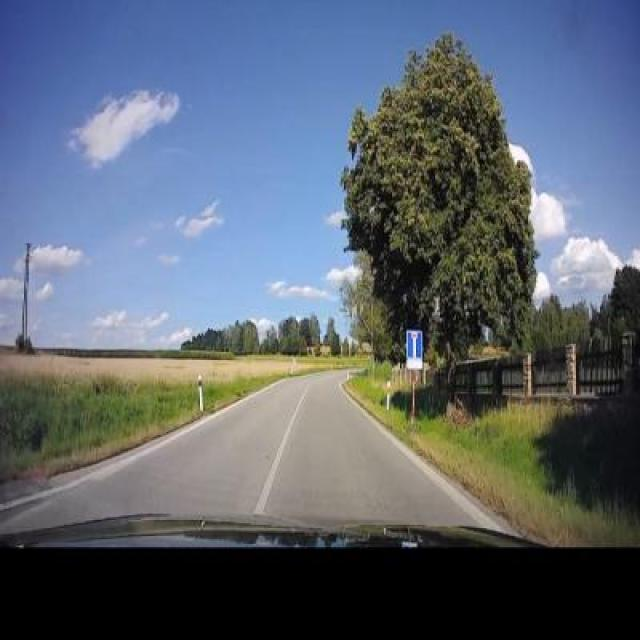clear-road: (0, 378, 310, 535), (260, 374, 476, 526)
